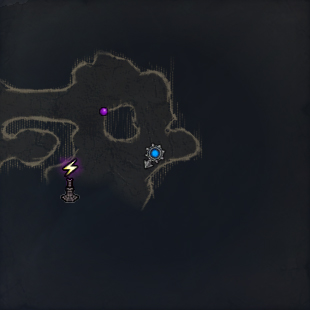ConduitPylon: (62, 158, 79, 203)
